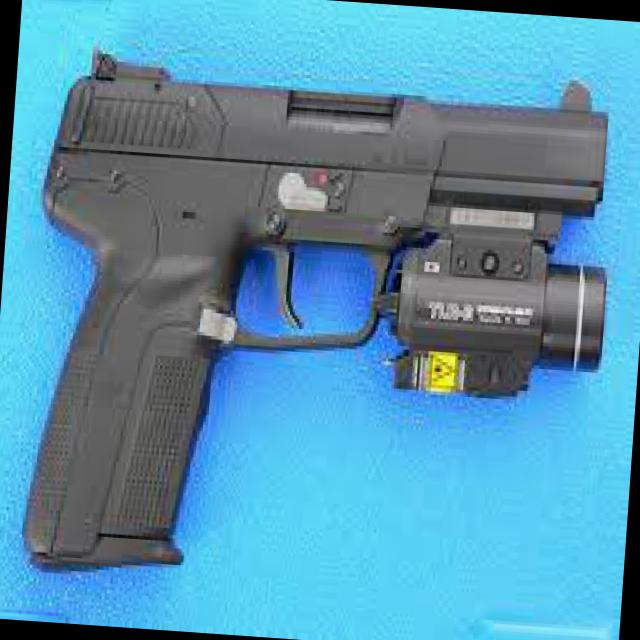handgun: (0, 25, 619, 594)
